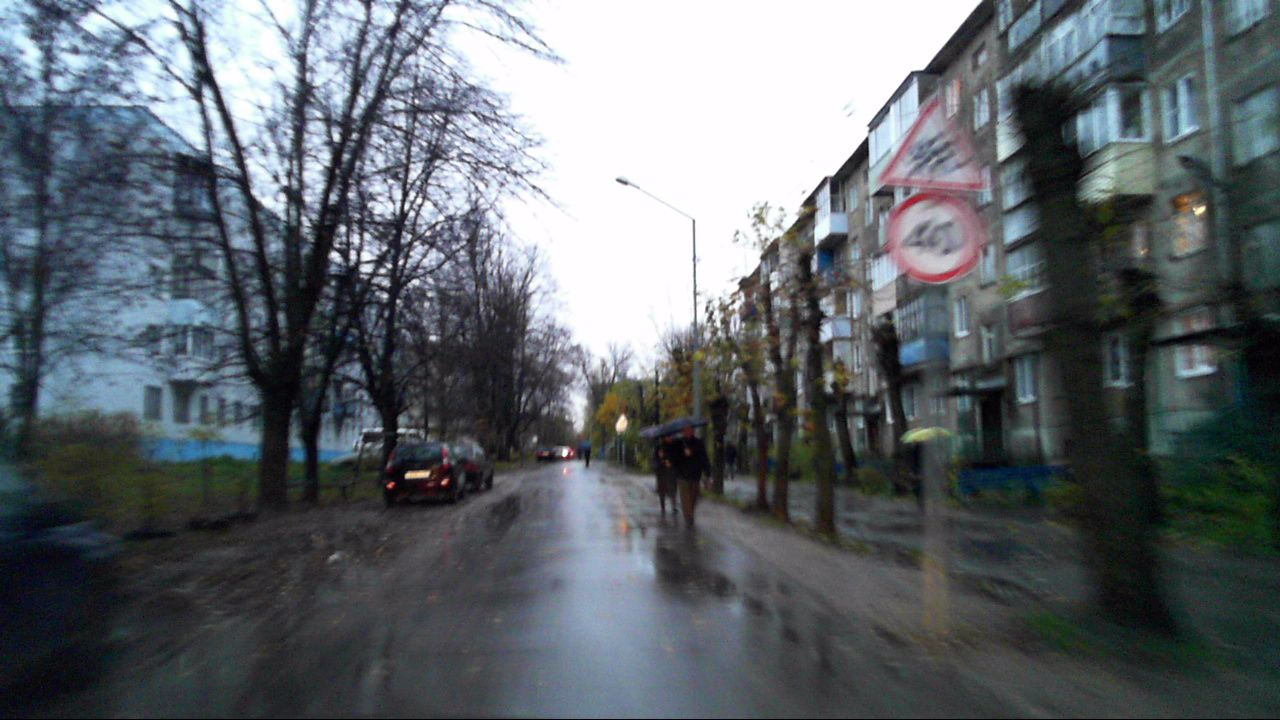speed_warning_40: (885, 193, 981, 284)
